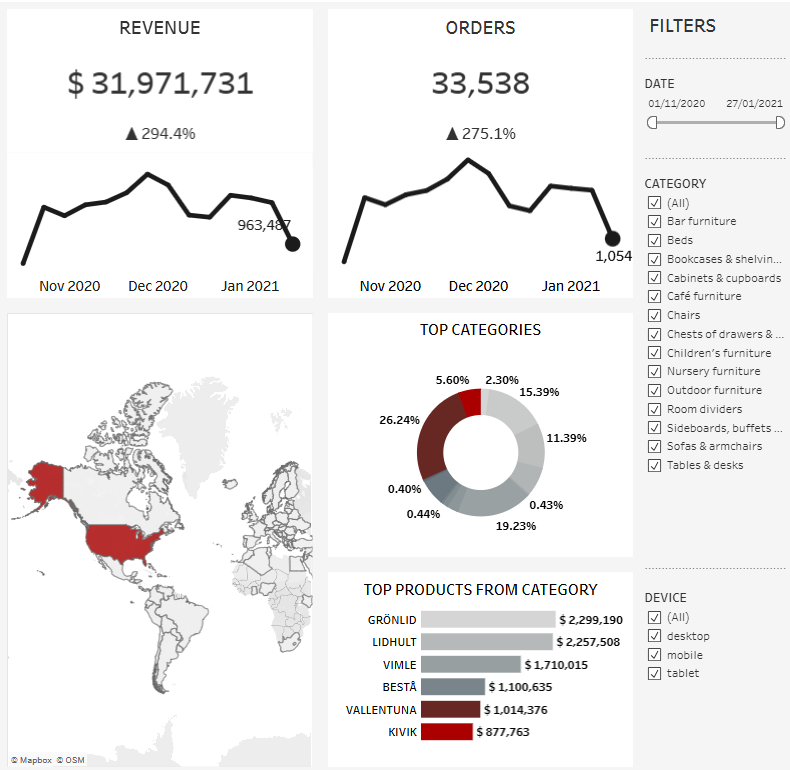

This screenshot's page, from the dashboard's own definition file:
{"tool":"tableau","page":{"name":"Dashboard 1","canvas":[1000,1000],"units":"permille","ordinal":0},"visuals":[{"type":"worksheet","title":"Revenue","mark":"Automatic","box":[9.3,9.8,397.7,141.6]},{"type":"worksheet","title":"Orders","mark":"Automatic","box":[407,9.8,397.7,141.6]},{"type":"worksheet","title":"Sheet 10","mark":"Automatic","box":[804.6,9.8,186.1,48]},{"type":"text","box":[804.6,57.9,186.1,39.4]},{"type":"filter","title":"Revenue","param":"[federated.1o5axs00yaxywd13hu24f0s24rbb].[none:date:qk]","box":[804.6,97.3,186.1,88.7]},{"type":"worksheet","title":"rev_change","mark":"Automatic","box":[9.3,151.5,397.7,49.2]},{"type":"worksheet","title":"ord_change","mark":"Automatic","box":[407,151.5,397.7,49.2]},{"type":"text","box":[804.6,185.9,186.1,39.4]},{"type":"worksheet","title":"rev_dynamic","mark":"Automatic","rows":["revenue","Calculation_474848330851065856"],"cols":["date"],"box":[9.3,200.7,397.7,194.6]},{"type":"worksheet","title":"ord_dynamic","mark":"Automatic","rows":["order_cnt","Calculation_474848331190599693"],"cols":["date"],"box":[407,200.7,397.7,194.6]},{"type":"filter","title":"Revenue","param":"[federated.1o5axs00yaxywd13hu24f0s24rbb].[none:category:nk]","box":[804.6,225.3,186.1,485.2]},{"type":"worksheet","title":"country","mark":"Automatic","box":[9.3,395.3,397.7,594.9]},{"type":"worksheet","title":"donut_category","mark":"Pie","rows":["Calculation_474848331220529169","Calculation_474848331220529169"],"box":[407,395.3,397.7,328.2]},{"type":"text","box":[804.6,710.6,186.1,39.4]},{"type":"worksheet","title":"top_product","mark":"Automatic","rows":["product"],"cols":["revenue"],"box":[407,723.5,397.7,266.7]},{"type":"filter","title":"Revenue","param":"[federated.1o5axs00yaxywd13hu24f0s24rbb].[none:device:nk]","box":[804.6,750,186.1,161.3]}]}

Visuals, with their boxes on the dashboard's canvas, which has no fixed pixel size, in thousandths of its width and height (x1, y1, x2, y2). These are canvas units, not pixel positions in the 790x770 screenshot, which may show the page scaled, cropped or inside an application window:
"Revenue" worksheet: [x1=9, y1=10, x2=407, y2=151]
"Orders" worksheet: [x1=407, y1=10, x2=805, y2=151]
"Sheet 10" worksheet: [x1=805, y1=10, x2=991, y2=58]
text: [x1=805, y1=58, x2=991, y2=97]
"Revenue" filter: [x1=805, y1=97, x2=991, y2=186]
"rev_change" worksheet: [x1=9, y1=152, x2=407, y2=201]
"ord_change" worksheet: [x1=407, y1=152, x2=805, y2=201]
text: [x1=805, y1=186, x2=991, y2=225]
"rev_dynamic" worksheet: [x1=9, y1=201, x2=407, y2=395]
"ord_dynamic" worksheet: [x1=407, y1=201, x2=805, y2=395]
"Revenue" filter: [x1=805, y1=225, x2=991, y2=710]
"country" worksheet: [x1=9, y1=395, x2=407, y2=990]
"donut_category" worksheet (Pie marks): [x1=407, y1=395, x2=805, y2=724]
text: [x1=805, y1=711, x2=991, y2=750]
"top_product" worksheet: [x1=407, y1=724, x2=805, y2=990]
"Revenue" filter: [x1=805, y1=750, x2=991, y2=911]
